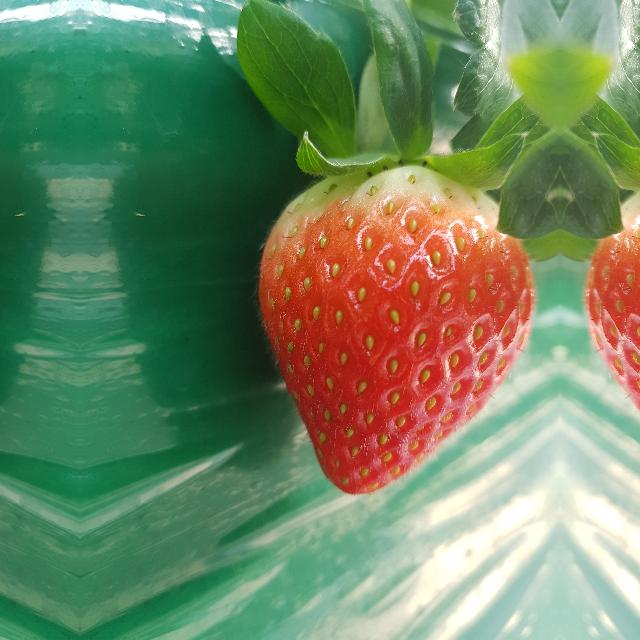Health_100: (256, 165, 534, 497)
